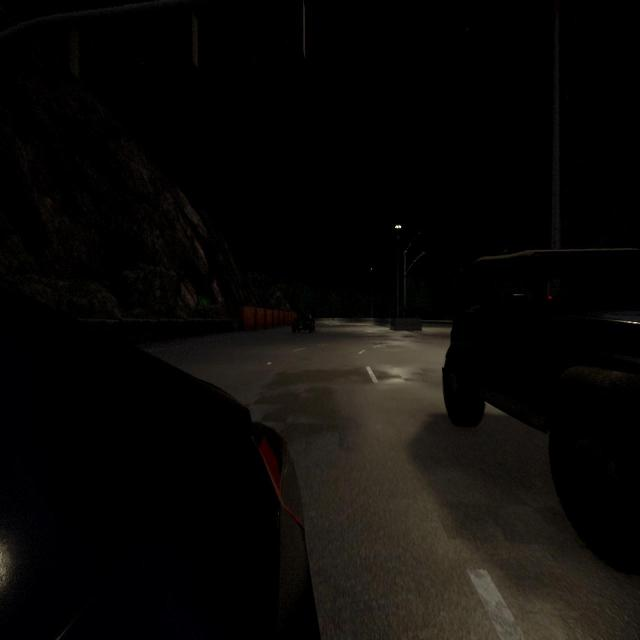Vehicle: (0, 292, 326, 639), (443, 246, 640, 582), (292, 314, 316, 334)
